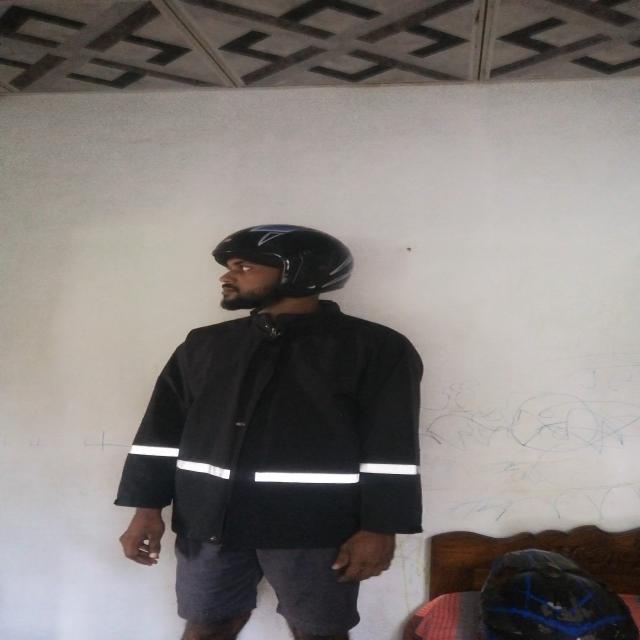Helmet_Wearer: (186, 218, 358, 319)
Jacket_Wearer: (108, 300, 434, 553)
Person: (111, 220, 431, 633)
